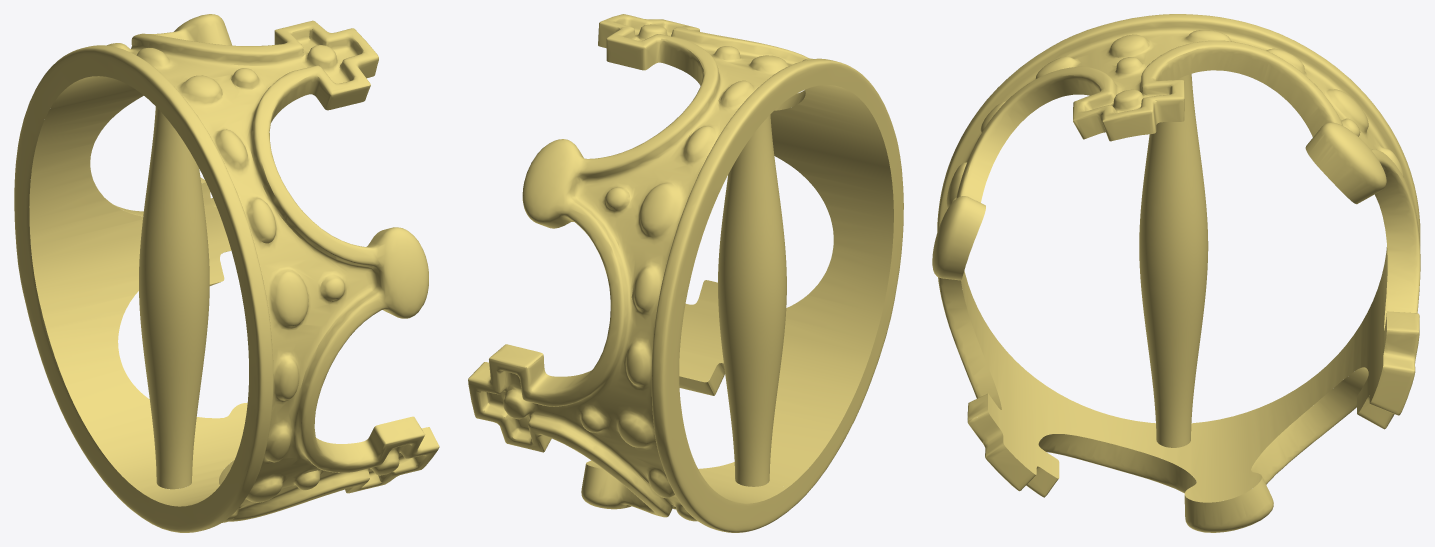
The model's file is kral_yuzuk.glb.
3 views of the same model, side by side, from view 1: azimuth 30°, elevation 25°; view 2: azimuth 150°, elevation 25°; view 3: azimuth 270°, elevation 25° (orthographic). The views are drawn at different scales.
Visible parts, largest first — view 1: Renderer Node; view 2: Renderer Node; view 3: Renderer Node.
Part boxes in pixels (x1,y1,x2,y2): Renderer Node: (14, 14, 439, 532); Renderer Node: (468, 14, 903, 532); Renderer Node: (932, 14, 1420, 532).
Size of the model in its own units: 13.31 by 28.5 by 28.32.
